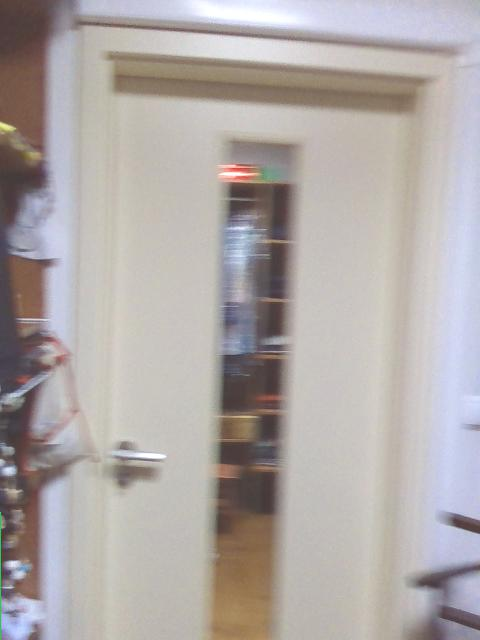closed_door: (71, 15, 454, 638)
